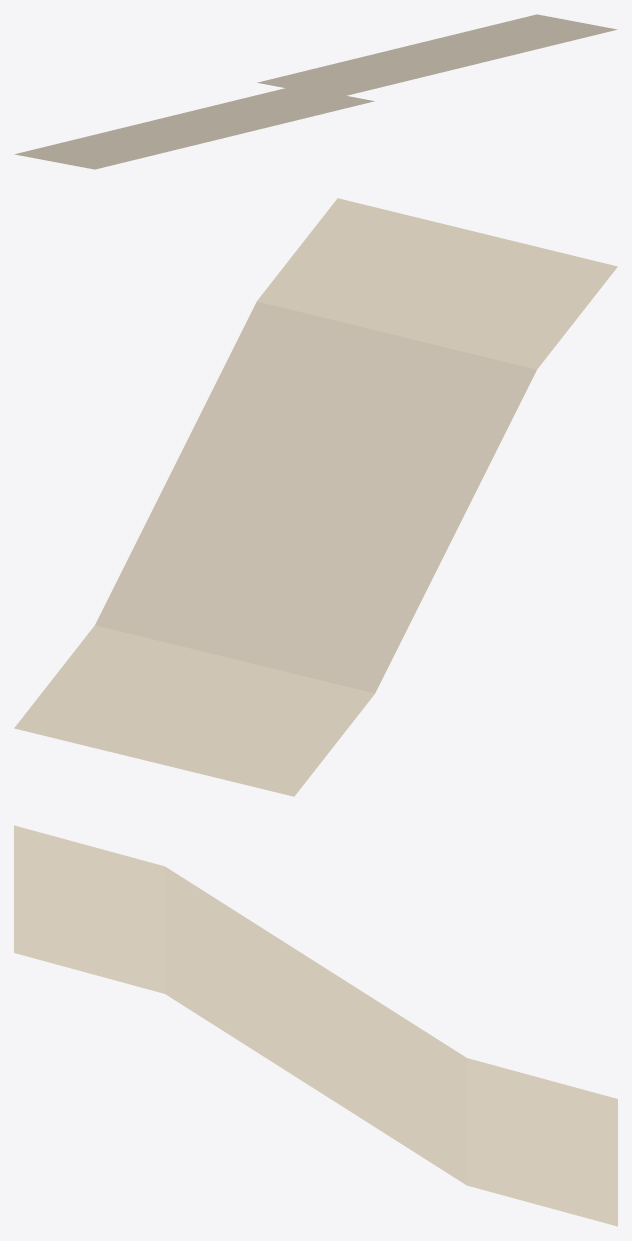
File: Hilly_Terrain_Path_Hill_Sharp_Plain_Center.glb
The picture shows the model from 3 angles, top to bottom: view 1: azimuth 30°, elevation 25°; view 2: azimuth 150°, elevation 25°; view 3: azimuth 270°, elevation 25°; orthographic projection. The views are drawn at different scales.
Parts seen in each view (by area): view 1: Hilly_Terrain_Path_Hill_Sharp_Plain_Center; view 2: Hilly_Terrain_Path_Hill_Sharp_Plain_Center; view 3: Hilly_Terrain_Path_Hill_Sharp_Plain_Center.
Part boxes in pixels (bbox=[...]): Hilly_Terrain_Path_Hill_Sharp_Plain_Center: bbox=[14, 14, 617, 169]; Hilly_Terrain_Path_Hill_Sharp_Plain_Center: bbox=[14, 198, 617, 796]; Hilly_Terrain_Path_Hill_Sharp_Plain_Center: bbox=[14, 825, 617, 1226].
Size of the model in its own units: 1 by 1 by 2.
